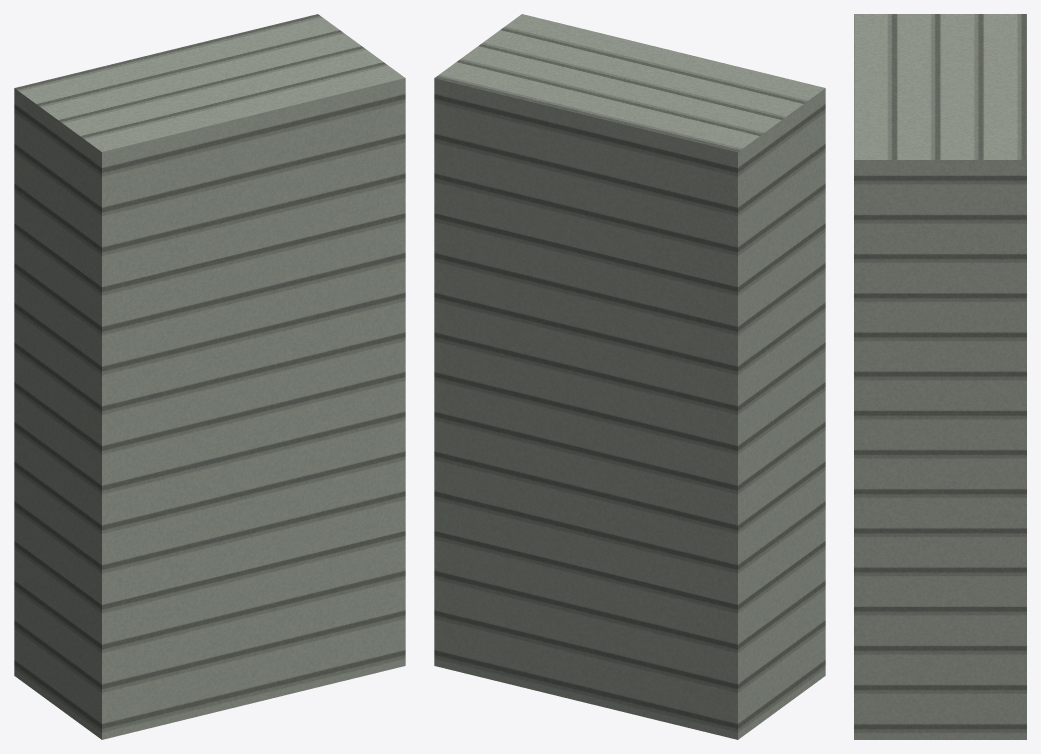
The model's file is hoosier_pantry_cabinet.glb.
The picture shows the model from 3 angles, left to right: view 1: azimuth 30°, elevation 25°; view 2: azimuth 150°, elevation 25°; view 3: azimuth 270°, elevation 25°; orthographic projection.
Visible parts, largest first — view 1: hoosier_pantry_cabinet-col; view 2: hoosier_pantry_cabinet-col; view 3: hoosier_pantry_cabinet-col.
Boxes of the visible parts, x1=… form: hoosier_pantry_cabinet-col: x1=14, y1=14, x2=405, y2=739; hoosier_pantry_cabinet-col: x1=434, y1=14, x2=825, y2=739; hoosier_pantry_cabinet-col: x1=854, y1=14, x2=1026, y2=739.
Size of the model in its own units: 1 by 1.85 by 0.5.
Materials: 1 (1 with a texture image).
